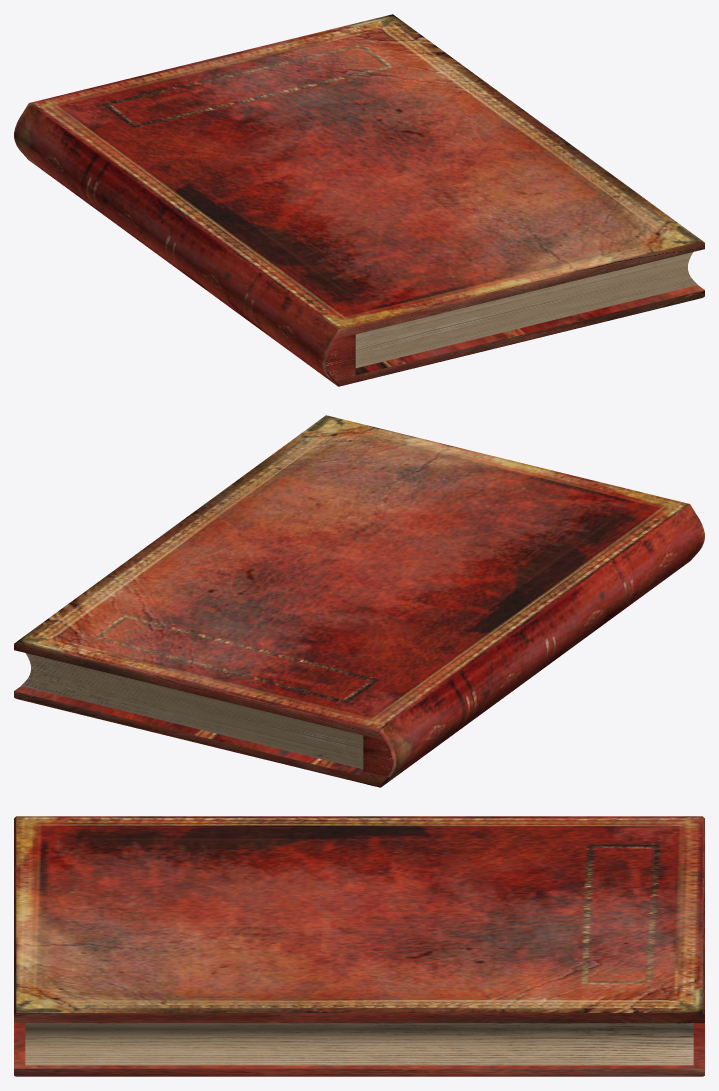
Rendered from old_closed_book.glb.
3 renders of one model, top to bottom at view 1: azimuth 30°, elevation 25°; view 2: azimuth 150°, elevation 25°; view 3: azimuth 270°, elevation 25°, orthographic. The views are drawn at different scales.
Parts seen in each view (by area): view 1: Object_3, Object_2; view 2: Object_3, Object_2; view 3: Object_3, Object_2.
Part boxes in pixels (x1,y1,x2,y2): Object_3: (14,14,704,386); Object_2: (355,252,697,368); Object_3: (14,415,704,787); Object_2: (21,653,363,769); Object_3: (14,816,704,1076); Object_2: (25,1023,693,1065).
Bounding box in the file's own units: 1.19 × 0.1706 × 1.68.
2 materials, 2 textured.
